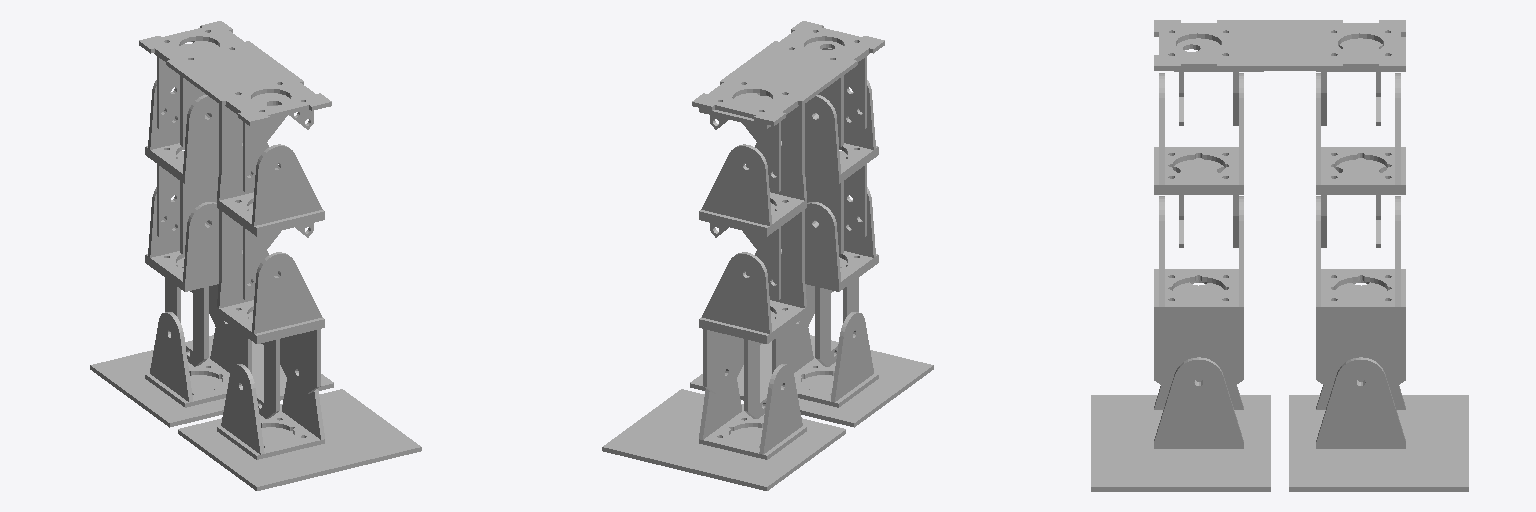
robot.urdf — biped_description:
<robot
  name="biped_description">
  <link
    name="base_link">
    <inertial>
      <origin
        xyz="-0.0019685 0.001496 -0.0098547"
        rpy="0 0 0" />
      <mass
        value="0.024781" />
      <inertia
        ixx="4.2239E-05"
        ixy="7.2977E-08"
        ixz="1.3465E-06"
        iyy="1.0769E-05"
        iyz="1.9851E-07"
        izz="4.4547E-05" />
    </inertial>
    <visual>
      <origin
        xyz="0 0 0"
        rpy="0 0 0" />
      <geometry>
        <mesh
          filename="package://biped_description/meshes/base_link.STL" />
      </geometry>
      <material
        name="">
        <color
          rgba="0.75294 0.75294 0.75294 1" />
      </material>
    </visual>
    <collision>
      <origin
        xyz="0 0 0"
        rpy="0 0 0" />
      <geometry>
        <mesh
          filename="package://biped_description/meshes/base_link.STL" />
      </geometry>
    </collision>
  </link>
  <link
    name="right_thigh">
    <inertial>
      <origin
        xyz="0.0049807 -0.020266 -0.03785"
        rpy="0 0 0" />
      <mass
        value="0.015137" />
      <inertia
        ixx="1.1748E-05"
        ixy="-2.7871E-08"
        ixz="2.5355E-07"
        iyy="9.7377E-06"
        iyz="-9.3464E-07"
        izz="8.0046E-06" />
    </inertial>
    <visual>
      <origin
        xyz="0 0 0"
        rpy="0 0 0" />
      <geometry>
        <mesh
          filename="package://biped_description/meshes/right_thigh.STL" />
      </geometry>
      <material
        name="">
        <color
          rgba="0.75294 0.75294 0.75294 1" />
      </material>
    </visual>
    <collision>
      <origin
        xyz="0 0 0"
        rpy="0 0 0" />
      <geometry>
        <mesh
          filename="package://biped_description/meshes/right_thigh.STL" />
      </geometry>
    </collision>
  </link>
  <joint
    name="right_waist"
    type="revolute">
    <origin
      xyz="-0.008 -0.0215 -0.037508"
      rpy="0 0 0" />
    <parent
      link="base_link" />
    <child
      link="right_thigh" />
    <axis
      xyz="0 -1 0" />
    <limit
        lower="-1.57"
        upper="1.57"
        effort="0"
        velocity="0" />
  </joint>
  <link
    name="right_calf">
    <inertial>
      <origin
        xyz="0.0092066 -0.024554 -0.043804"
        rpy="0 0 0" />
      <mass
        value="0.017554" />
      <inertia
        ixx="1.648E-05"
        ixy="-4.5068E-08"
        ixz="-1.6314E-06"
        iyy="1.4881E-05"
        iyz="2.186E-07"
        izz="9.3201E-06" />
    </inertial>
    <visual>
      <origin
        xyz="0 0 0"
        rpy="0 0 0" />
      <geometry>
        <mesh
          filename="package://biped_description/meshes/right_calf.STL" />
      </geometry>
      <material
        name="">
        <color
          rgba="0.75294 0.75294 0.75294 1" />
      </material>
    </visual>
    <collision>
      <origin
        xyz="0 0 0"
        rpy="0 0 0" />
      <geometry>
        <mesh
          filename="package://biped_description/meshes/right_calf.STL" />
      </geometry>
    </collision>
  </link>
  <joint
    name="right_knee"
    type="revolute">
    <origin
      xyz="0 0.0015 -0.074962"
      rpy="0 0 0" />
    <parent
      link="right_thigh" />
    <child
      link="right_calf" />
    <axis
      xyz="0 -1 0" />
    <limit
        lower="-1.57"
        upper="1.57"
        effort="0"
        velocity="0" />
  </joint>
  <link
    name="right_foot">
    <inertial>
      <origin
        xyz="-0.014231 -0.0069737 -0.036317"
        rpy="0 0 0" />
      <mass
        value="0.025295" />
      <inertia
        ixx="2.0307E-05"
        ixy="-7.4632E-07"
        ixz="-1.3332E-06"
        iyy="2.9159E-05"
        iyz="9.9446E-07"
        izz="4.1962E-05" />
    </inertial>
    <visual>
      <origin
        xyz="0 0 0"
        rpy="0 0 0" />
      <geometry>
        <mesh
          filename="package://biped_description/meshes/right_foot.STL" />
      </geometry>
      <material
        name="">
        <color
          rgba="0.75294 0.75294 0.75294 1" />
      </material>
    </visual>
    <collision>
      <origin
        xyz="0 0 0"
        rpy="0 0 0" />
      <geometry>
        <mesh
          filename="package://biped_description/meshes/right_foot.STL" />
      </geometry>
    </collision>
  </link>
  <joint
    name="right_foot_angle"
    type="revolute">
    <origin
      xyz="0.033 -0.025 -0.083454"
      rpy="0 0 0" />
    <parent
      link="right_calf" />
    <child
      link="right_foot" />
    <axis
      xyz="1 0 0" />
    <limit
        lower="-1.57"
        upper="1.57"
        effort="0"
        velocity="0" />
  </joint>
  <link
    name="left_thigh">
    <inertial>
      <origin
        xyz="-0.0049807 -0.021766 -0.03785"
        rpy="0 0 0" />
      <mass
        value="0.015137" />
      <inertia
        ixx="1.1748E-05"
        ixy="2.7871E-08"
        ixz="-2.5355E-07"
        iyy="9.7377E-06"
        iyz="-9.3464E-07"
        izz="8.0046E-06" />
    </inertial>
    <visual>
      <origin
        xyz="0 0 0"
        rpy="0 0 0" />
      <geometry>
        <mesh
          filename="package://biped_description/meshes/left_thigh.STL" />
      </geometry>
      <material
        name="">
        <color
          rgba="0.75294 0.75294 0.75294 1" />
      </material>
    </visual>
    <collision>
      <origin
        xyz="0 0 0"
        rpy="0 0 0" />
      <geometry>
        <mesh
          filename="package://biped_description/meshes/left_thigh.STL" />
      </geometry>
    </collision>
  </link>
  <joint
    name="left_waist"
    type="revolute">
    <origin
      xyz="-0.008 0.02 -0.037508"
      rpy="0 0 -3.1416" />
    <parent
      link="base_link" />
    <child
      link="left_thigh" />
    <axis
      xyz="0 1 0" />
    <limit
        lower="-1.57"
        upper="1.57"
        effort="0"
        velocity="0" />
  </joint>
  <link
    name="left_calf">
    <inertial>
      <origin
        xyz="0.0092066 -0.022434 -0.043804"
        rpy="0 0 0" />
      <mass
        value="0.017554" />
      <inertia
        ixx="1.648E-05"
        ixy="4.2845E-08"
        ixz="-1.6314E-06"
        iyy="1.4881E-05"
        iyz="-2.3022E-07"
        izz="9.3203E-06" />
    </inertial>
    <visual>
      <origin
        xyz="0 0 0"
        rpy="0 0 0" />
      <geometry>
        <mesh
          filename="package://biped_description/meshes/left_calf.STL" />
      </geometry>
      <material
        name="">
        <color
          rgba="0.75294 0.75294 0.75294 1" />
      </material>
    </visual>
    <collision>
      <origin
        xyz="0 0 0"
        rpy="0 0 0" />
      <geometry>
        <mesh
          filename="package://biped_description/meshes/left_calf.STL" />
      </geometry>
    </collision>
  </link>
  <joint
    name="left_knee"
    type="revolute">
    <origin
      xyz="0 -0.047 -0.074962"
      rpy="0 0 -3.1416" />
    <parent
      link="left_thigh" />
    <child
      link="left_calf" />
    <axis
      xyz="0 -1 0" />
    <limit
        lower="-1.57"
        upper="1.57"
        effort="0"
        velocity="0" />
  </joint>
  <link
    name="left_foot">
    <inertial>
      <origin
        xyz="-0.014231 0.0069737 -0.036317"
        rpy="0 0 0" />
      <mass
        value="0.025295" />
      <inertia
        ixx="2.0307E-05"
        ixy="7.4632E-07"
        ixz="-1.3332E-06"
        iyy="2.9159E-05"
        iyz="-9.9446E-07"
        izz="4.1962E-05" />
    </inertial>
    <visual>
      <origin
        xyz="0 0 0"
        rpy="0 0 0" />
      <geometry>
        <mesh
          filename="package://biped_description/meshes/left_foot.STL" />
      </geometry>
      <material
        name="">
        <color
          rgba="0.75294 0.75294 0.75294 1" />
      </material>
    </visual>
    <collision>
      <origin
        xyz="0 0 0"
        rpy="0 0 0" />
      <geometry>
        <mesh
          filename="package://biped_description/meshes/left_foot.STL" />
      </geometry>
    </collision>
  </link>
  <joint
    name="left_foot_angle"
    type="revolute">
    <origin
      xyz="0.033 -0.022 -0.083454"
      rpy="0 0 0" />
    <parent
      link="left_calf" />
    <child
      link="left_foot" />
    <axis
      xyz="-1 0 0" />
    <limit
        lower="-1.57"
        upper="1.57"
        effort="0"
        velocity="0" />
  </joint>
</robot>

--- Render facts (derived) ---
Views: 3 orthographic renders of the robot side by side, from view 1: azimuth 30°, elevation 25°; view 2: azimuth 150°, elevation 25°; view 3: azimuth 270°, elevation 25°.
Robot: biped_description — 7 links, 6 joints (6 revolute); root link base_link; default pose: all joints at 0.
Visible links, largest first — view 1: right_foot, base_link, right_calf, left_foot, right_thigh, left_calf, left_thigh; view 2: left_foot, base_link, left_calf, right_foot, left_thigh, right_calf, right_thigh; view 3: left_foot, right_foot, base_link, right_calf, left_calf, right_thigh, left_thigh.
Boxes of the visible links, box(x1,y1,x2,y2) form: right_foot: box(178, 364, 421, 490); base_link: box(139, 21, 331, 192); right_calf: box(217, 249, 324, 418); left_foot: box(90, 312, 333, 427); right_thigh: box(217, 141, 324, 299); left_calf: box(145, 187, 235, 366); left_thigh: box(145, 80, 218, 253); left_foot: box(602, 364, 845, 490); base_link: box(692, 21, 884, 192); left_calf: box(699, 249, 806, 418); right_foot: box(690, 312, 933, 427); left_thigh: box(699, 141, 806, 299); right_calf: box(788, 187, 878, 366); right_thigh: box(805, 80, 878, 253); left_foot: box(1289, 357, 1468, 491); right_foot: box(1091, 357, 1270, 491); base_link: box(1154, 20, 1405, 125); right_calf: box(1154, 196, 1243, 390); left_calf: box(1316, 196, 1405, 390); right_thigh: box(1154, 73, 1243, 247); left_thigh: box(1316, 73, 1405, 247).
Bounding box of the posed robot: 0.12 × 0.21 × 0.2394 m (x, y, z).
7 mesh visuals loaded from 7 distinct referenced files (7 binary STL).